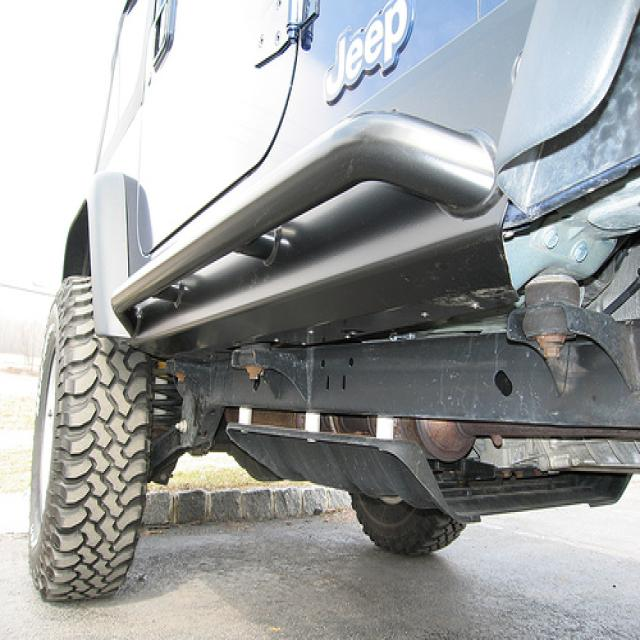car: (28, 1, 640, 605)
